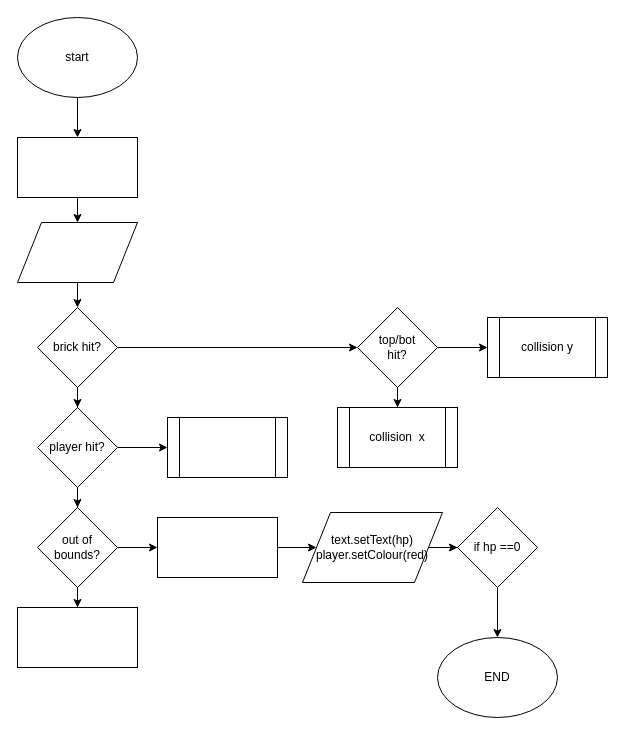
This 625x735 diagram has some shape labels left out. Each missing label, with the centre of its shape:
collision x, y: [227,447]
hp-1: [217,547]
objects and classes are made: [77,167]
pass: [77,637]
SPACE = play: [77,252]
